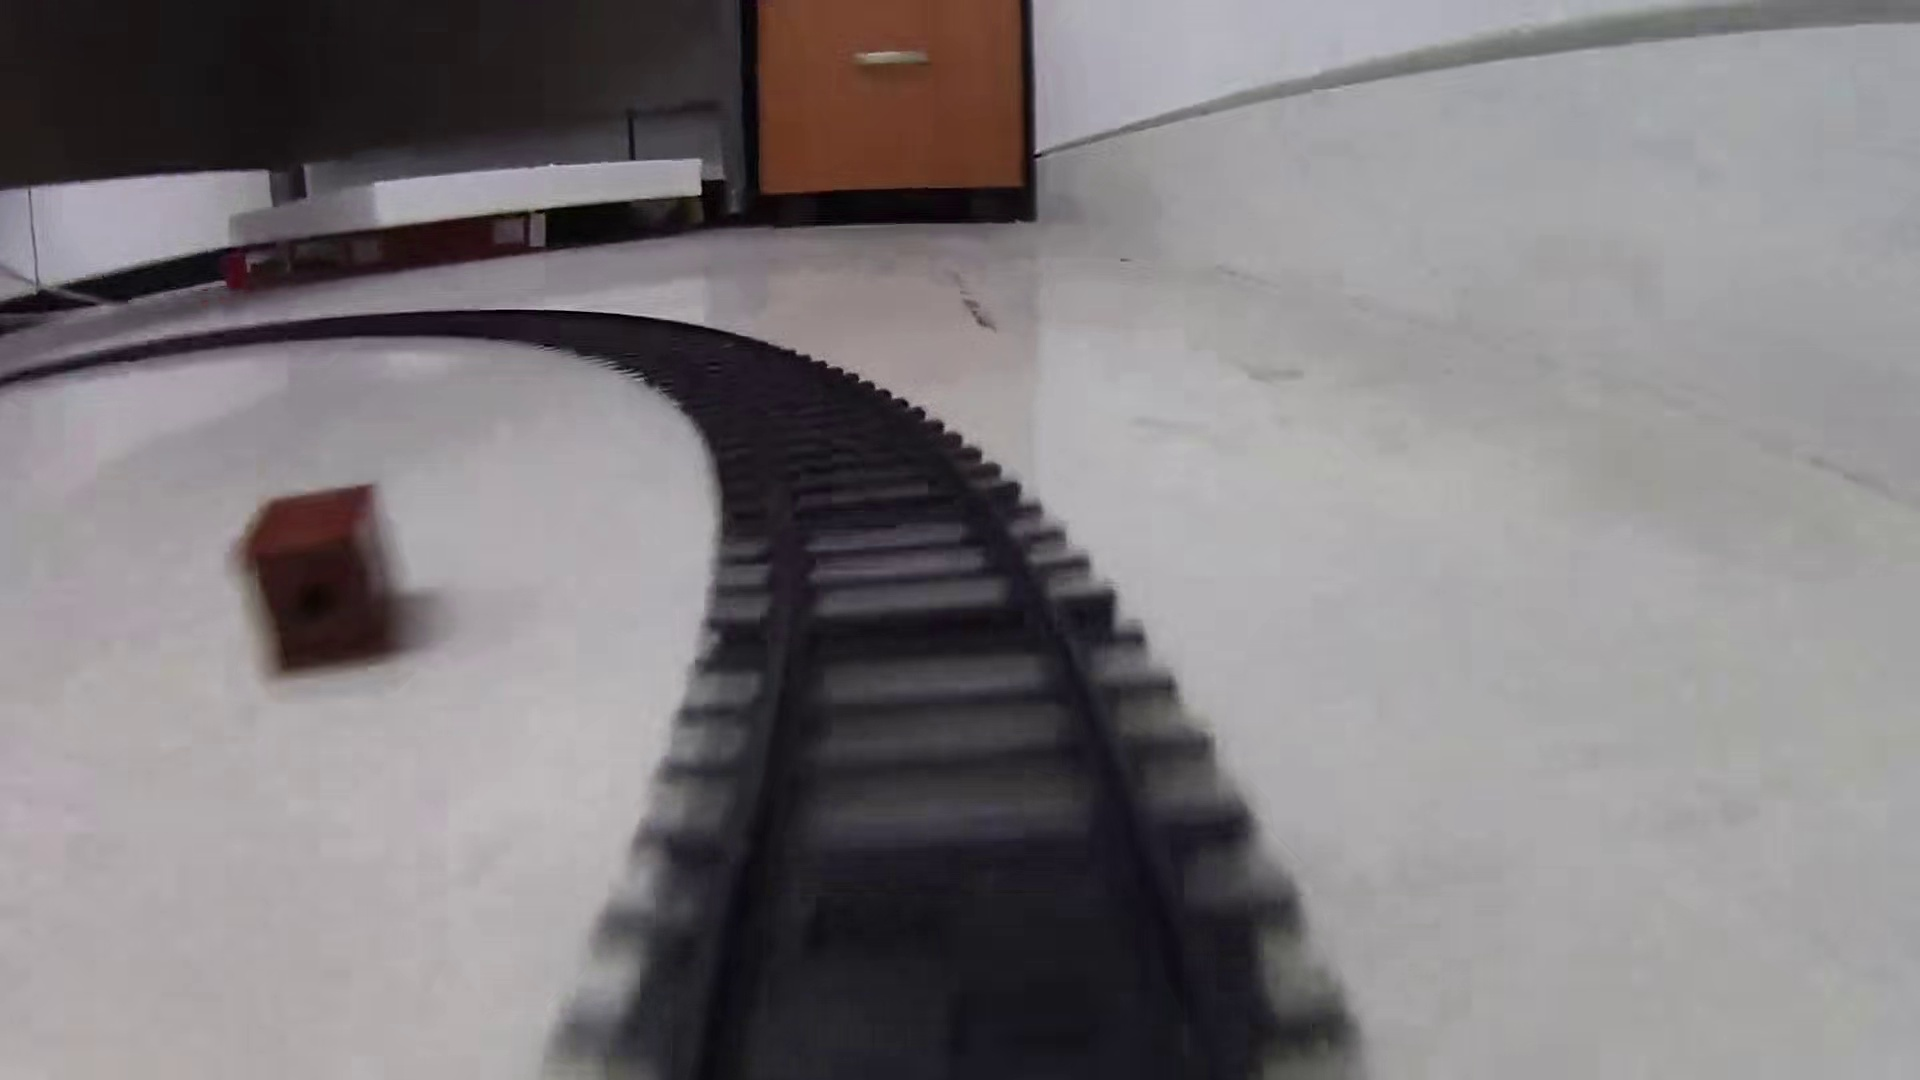box: (231, 483, 418, 679)
